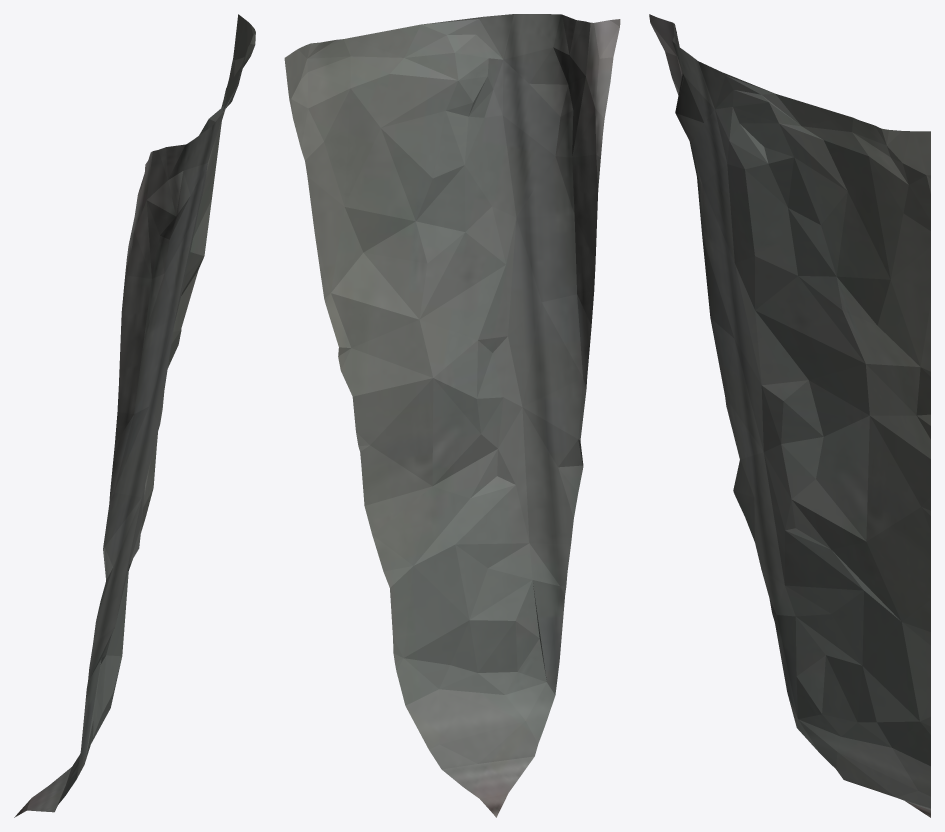
3 views of the same model, side by side, from view 1: azimuth 30°, elevation 25°; view 2: azimuth 150°, elevation 25°; view 3: azimuth 270°, elevation 25° (orthographic). The views are drawn at different scales.
Bounding box in the file's own units: 0.2205 × 0.704 × 0.2235.
1 material, 1 textured.
